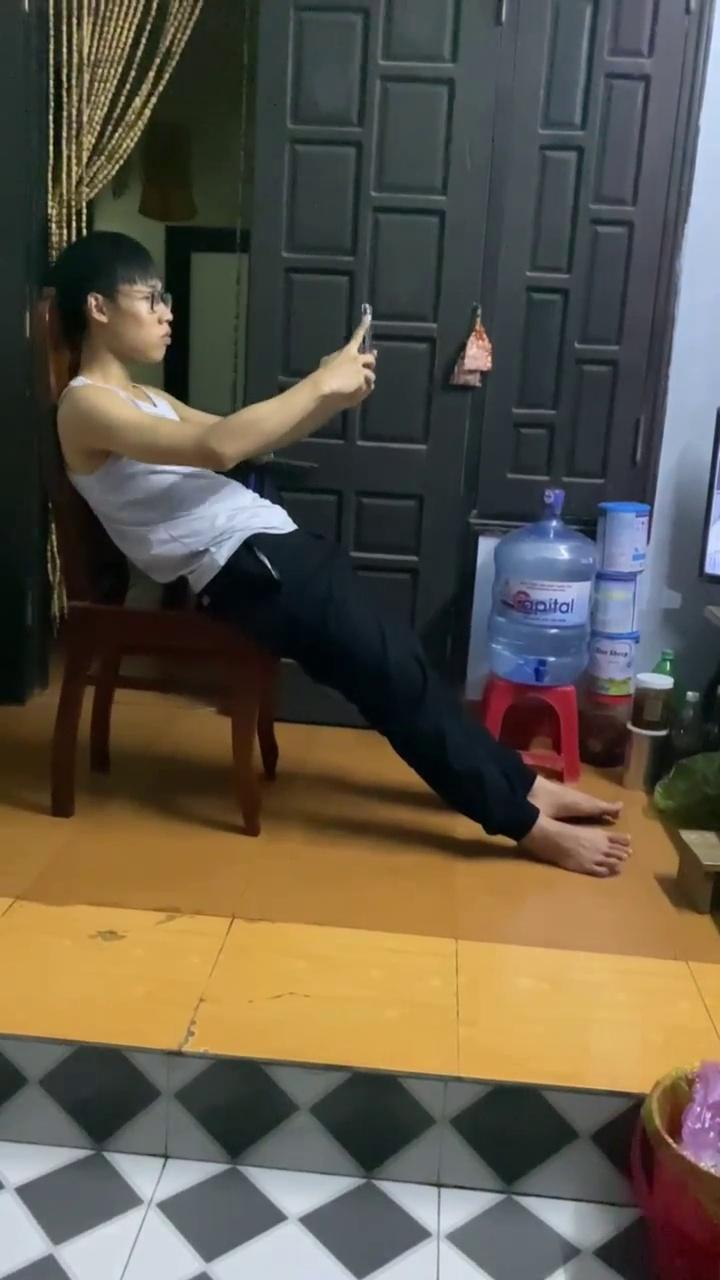BadPosture: (54, 232, 629, 876)
